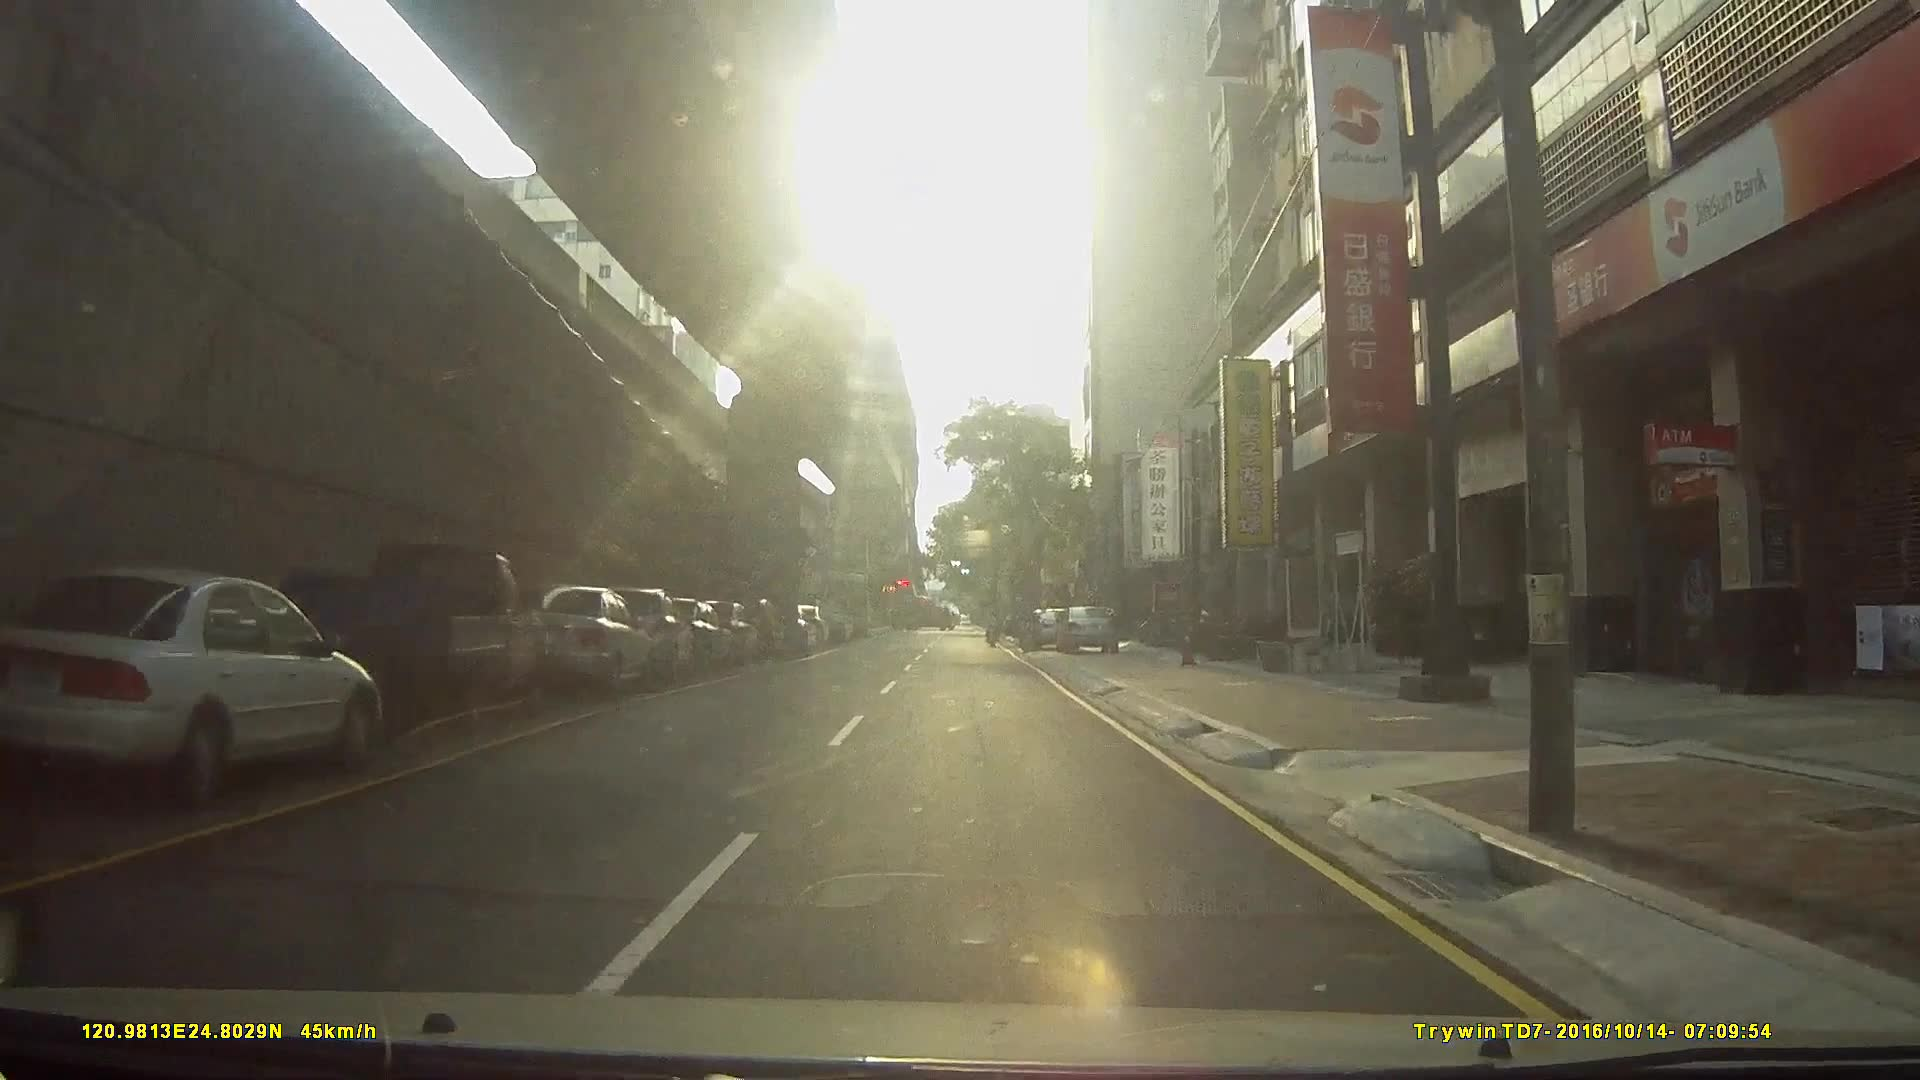vehicle: (0, 566, 382, 819), (276, 538, 545, 737), (500, 582, 657, 703), (597, 612, 729, 700), (659, 620, 794, 670), (1052, 604, 1120, 655)
